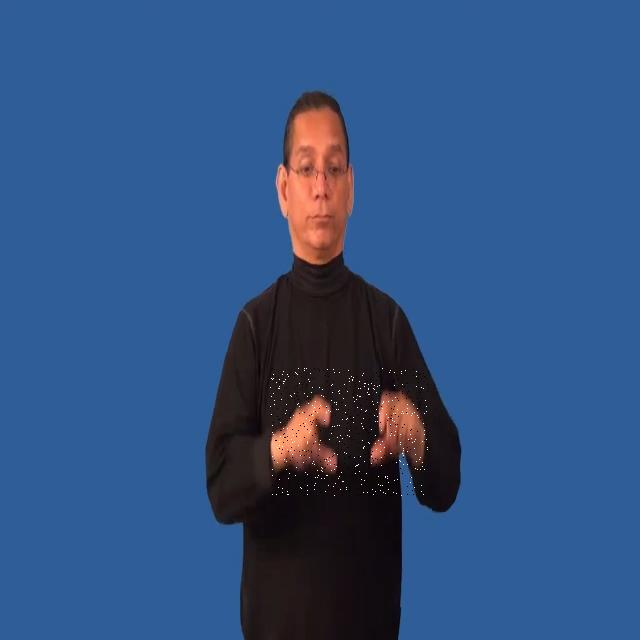coupon: (270, 368, 428, 496)
